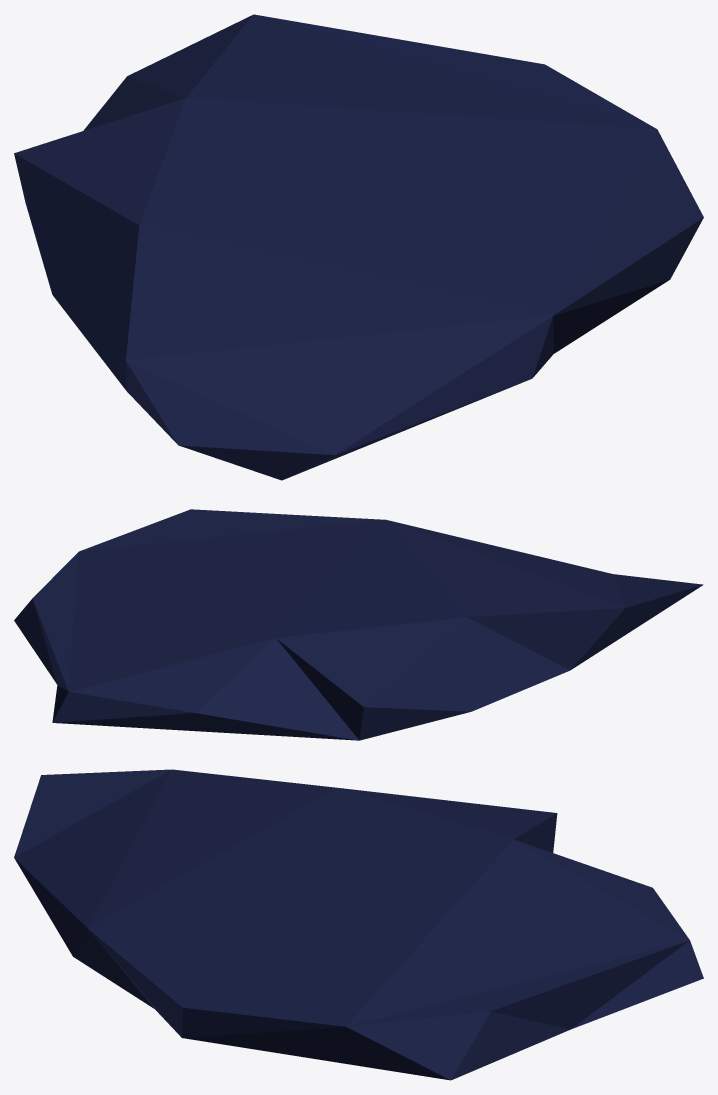
The model's file is Cave_stone_25.glb.
3 views of the same model, one above another, from view 1: azimuth 30°, elevation 25°; view 2: azimuth 150°, elevation 25°; view 3: azimuth 270°, elevation 25° (orthographic). The views are drawn at different scales.
Visible parts, largest first — view 1: Cave_stone_25; view 2: Cave_stone_25; view 3: Cave_stone_25.
Part boxes in pixels (bbox=[...]): Cave_stone_25: bbox=[14, 14, 703, 480]; Cave_stone_25: bbox=[14, 509, 703, 740]; Cave_stone_25: bbox=[14, 769, 703, 1080].
Size of the model in its own units: 1.28 by 0.2533 by 1.35.
